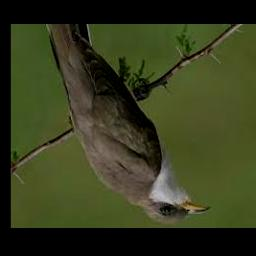Cuckoo: (45, 24, 210, 223)
